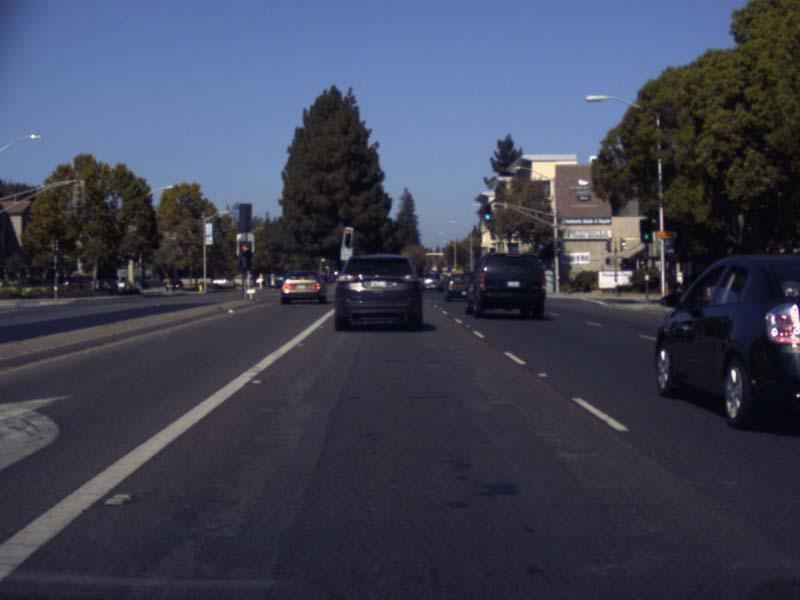Green: (641, 221, 649, 242), (483, 203, 490, 219), (556, 239, 561, 254)
Red: (238, 243, 249, 267), (344, 229, 349, 244)
